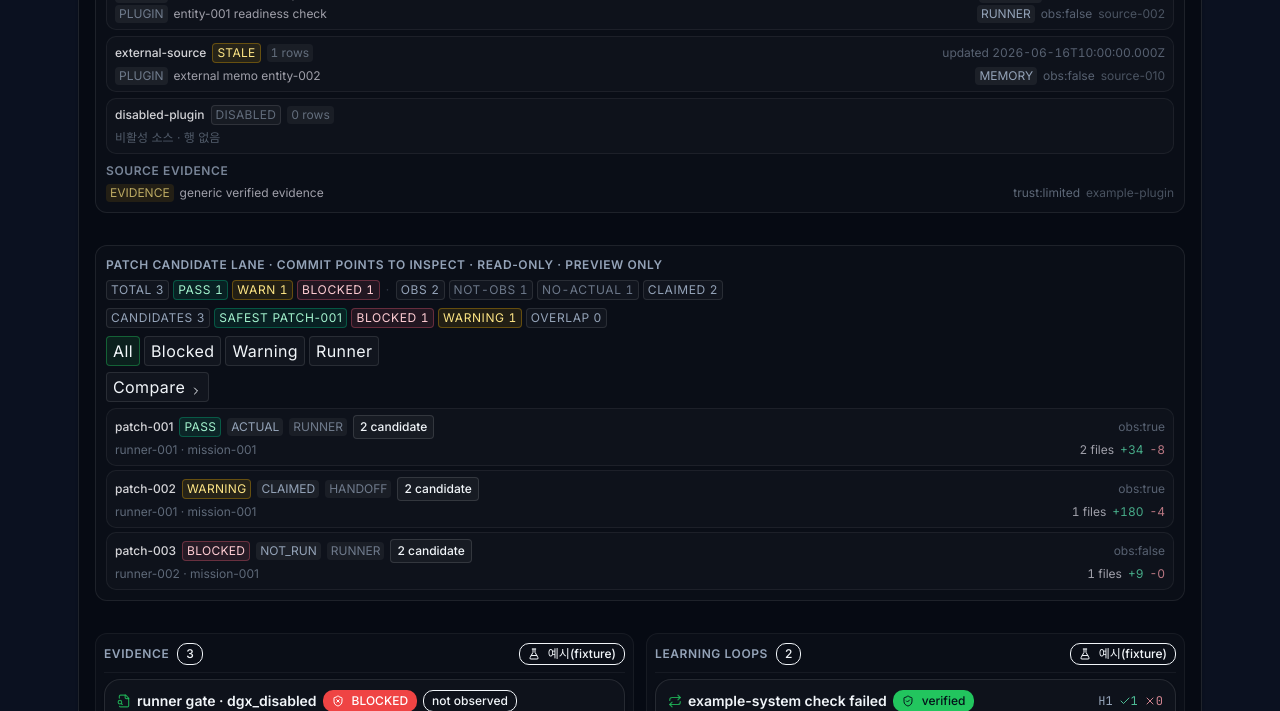
Test case: Batch 18 LINE D — deck/palette/filter polish (view-only) › all four lane filters are local-view and narrow the list
The width and height of the screenshot is (1280, 711).
(page scrolled)
What coordinates should you click on to do the following:
click the button with test id "patch-ctl-runner"
I would click on:
 (344, 351)
Its box is [309, 336, 379, 366].
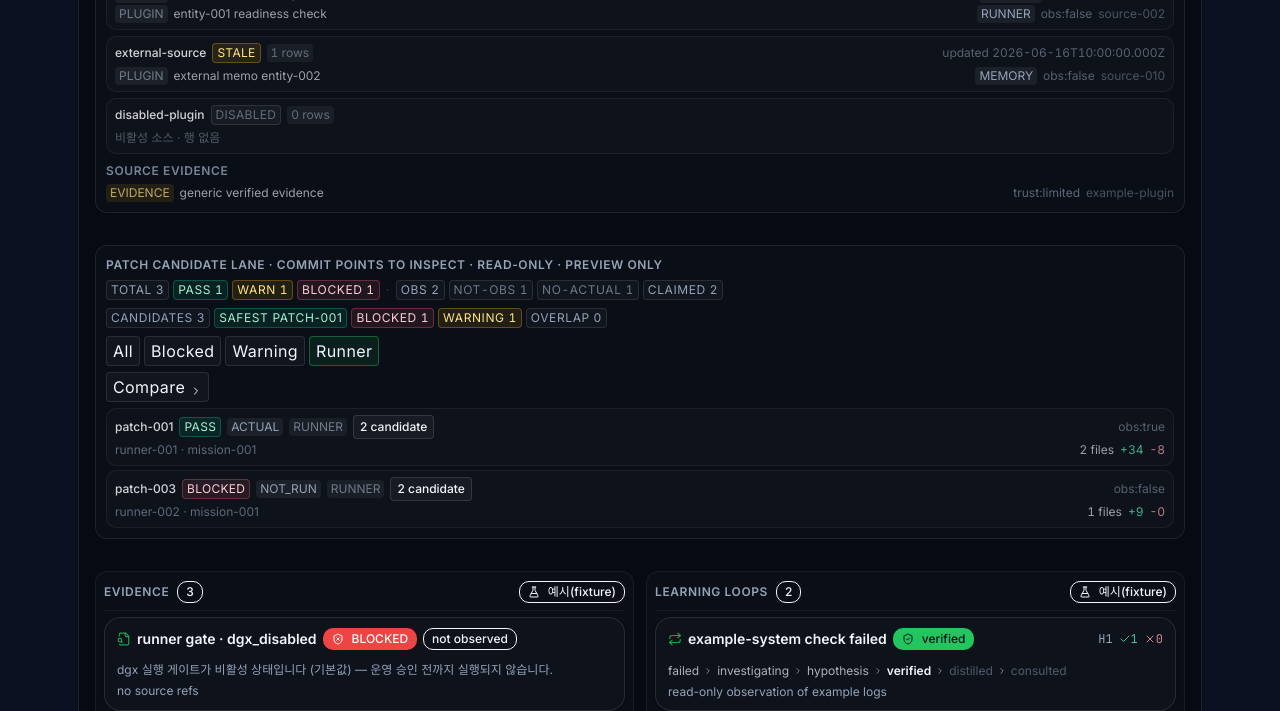
Expected: the button with test id "patch-candidate-patch-001" is shown, [106, 408, 1174, 466]
Expected: the button with test id "patch-candidate-patch-002" is gone
